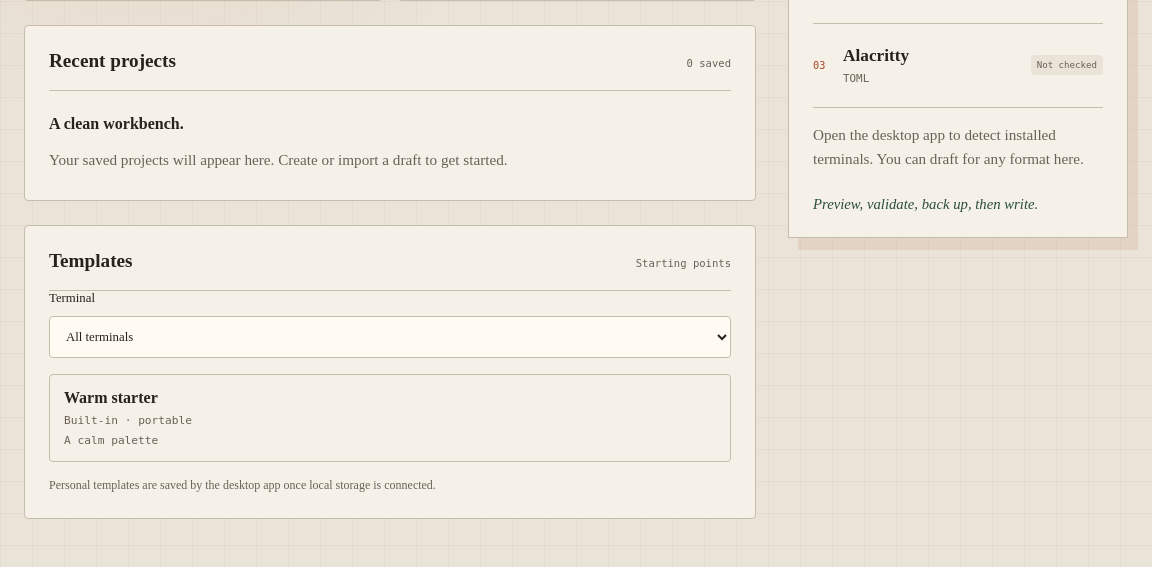
Test: App › provided templates create a draft for the chosen terminal
(page scrolled)
Click the button "Warm starter Built-in · portable A calm palette": x=111, y=398 [49,374,731,462]
(page scrolled)
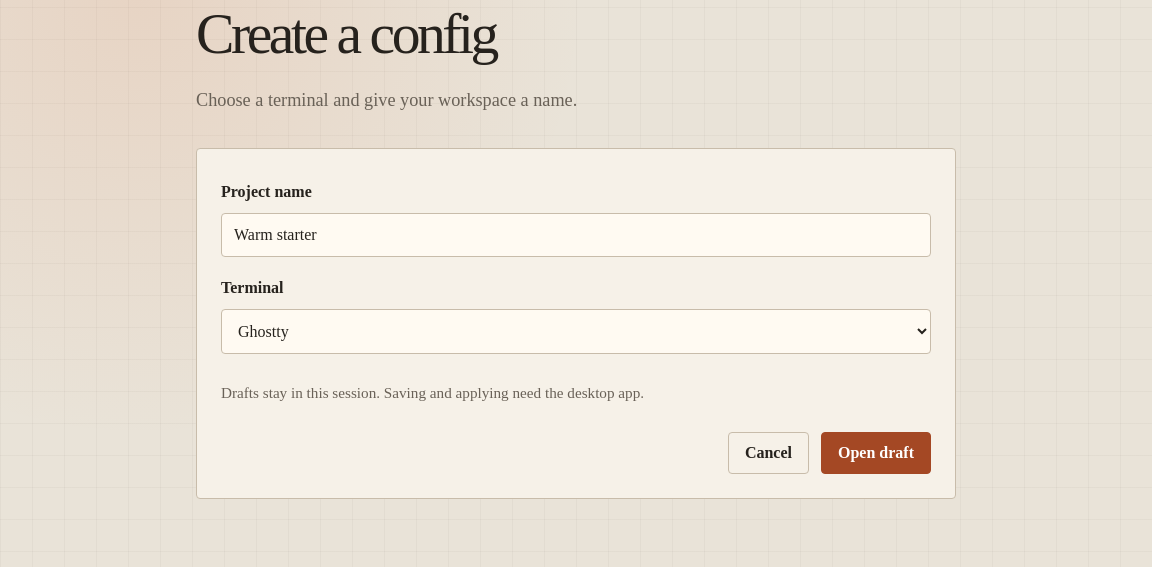
Select "Kitty" in the dropdown labelled "Terminal": x=576, y=331 [221,309,931,354]
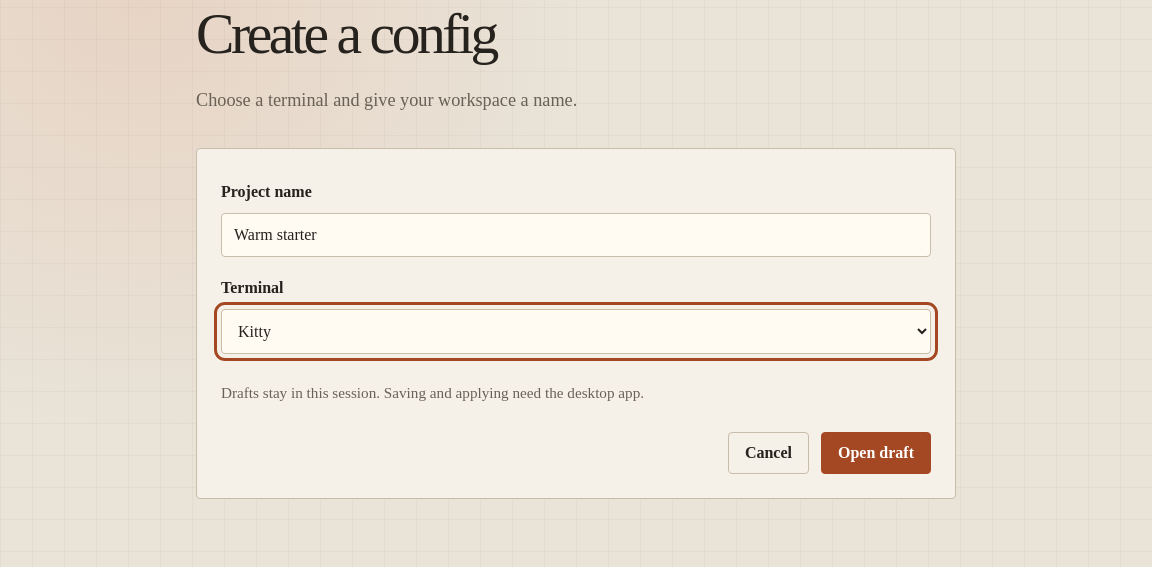
Click the button "Open draft": x=876, y=453 [821,432,931,474]
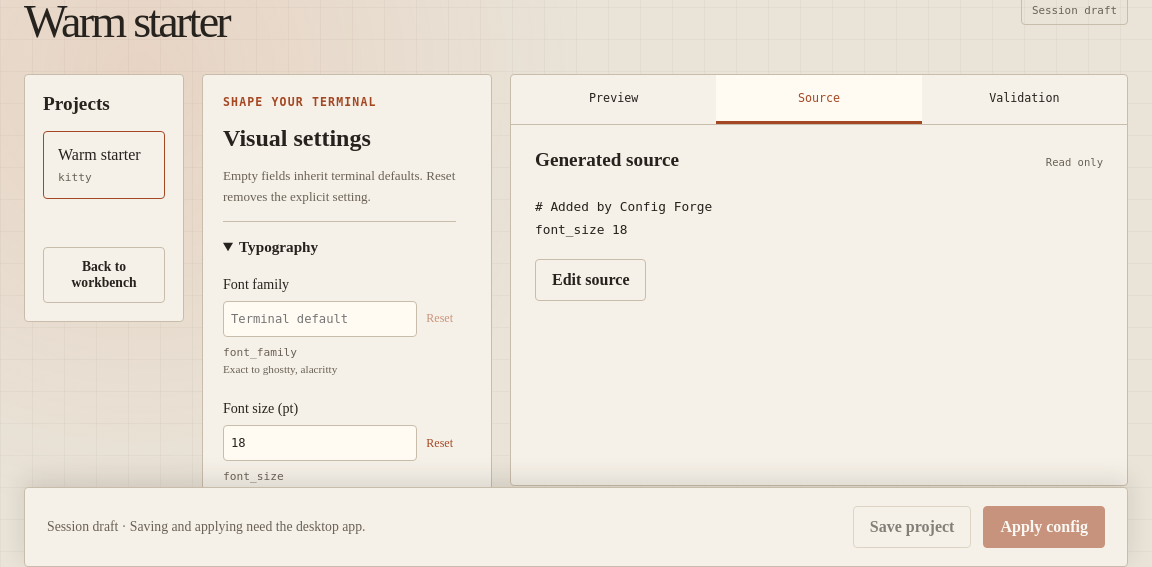
Now the text "kitty" is shown, box [58,171,92,184]
